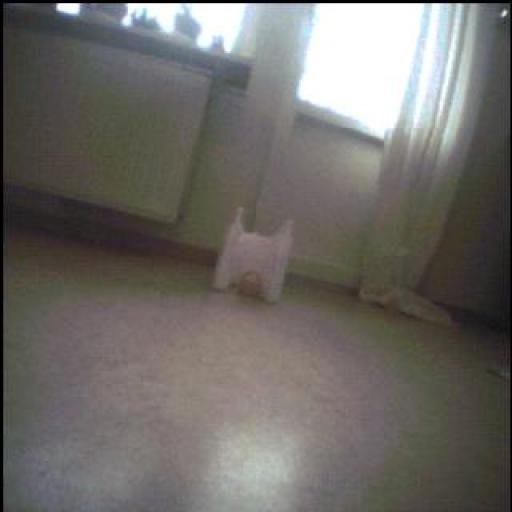Basket: (236, 270, 270, 304)
